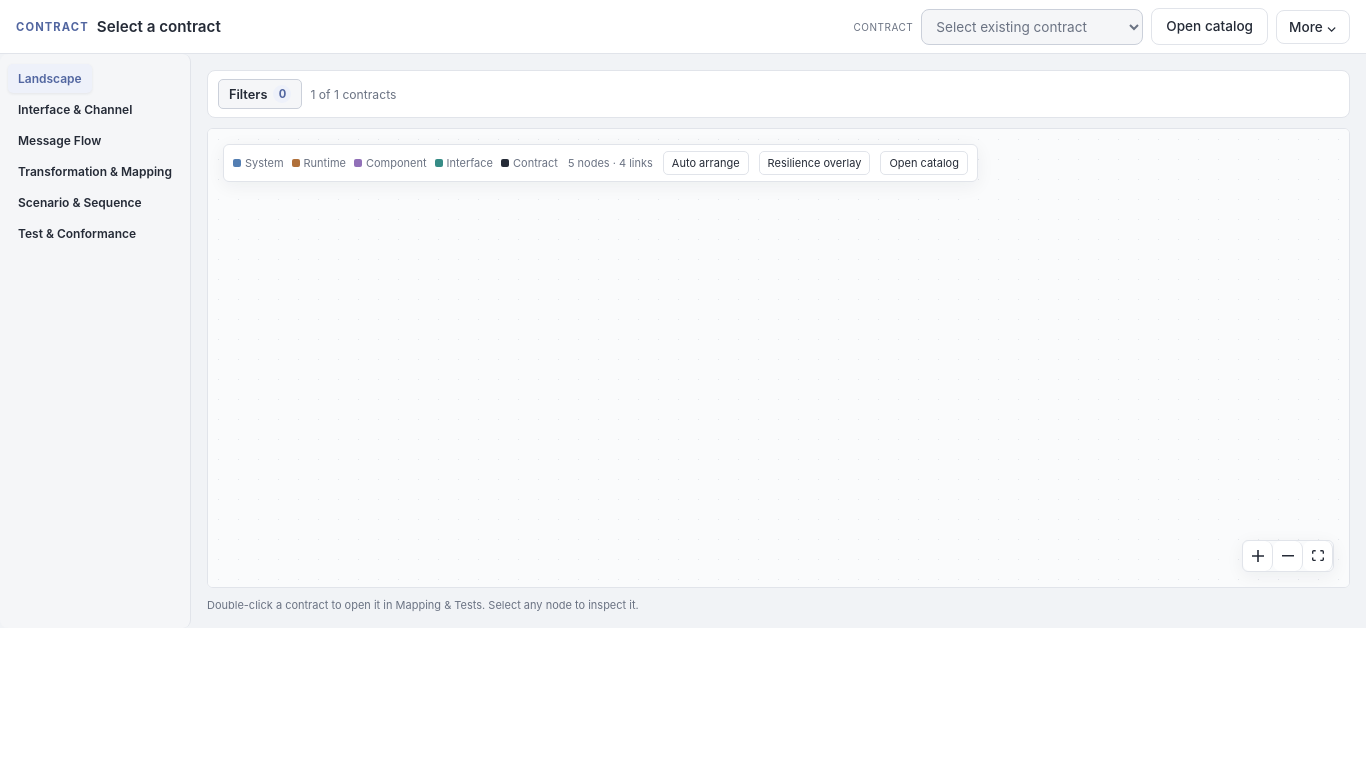
IntegrationWorkbench › shows the message flow stages including metadata-only routing
The width and height of the screenshot is (1366, 768).
Select "Customer push · CRM→ERP" in the dropdown labelled "Contract" at (1032, 26), box [921,8,1143,44]
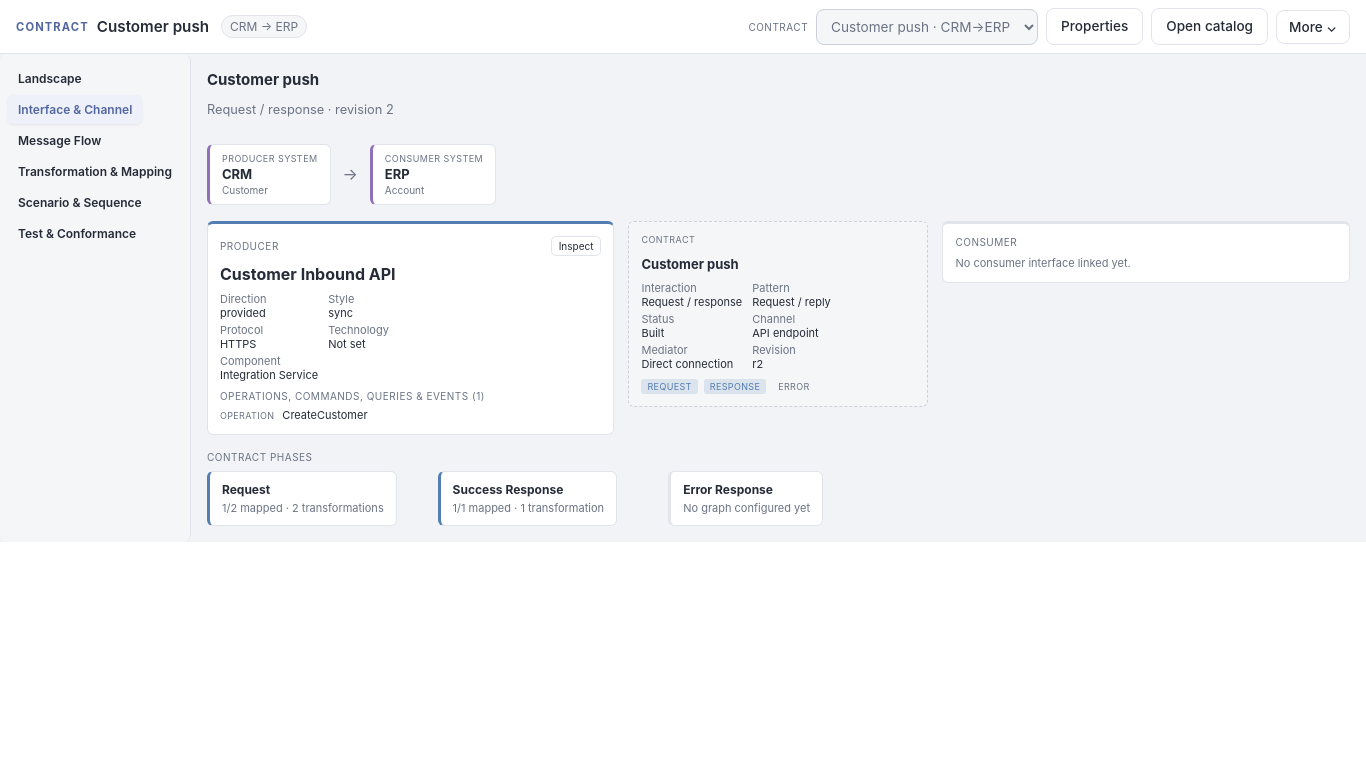
Check: the text "CreateCustomer" is shown, box [282,408,368,422]
Click the button "Message Flow" at (60, 140), box [8,126,111,155]
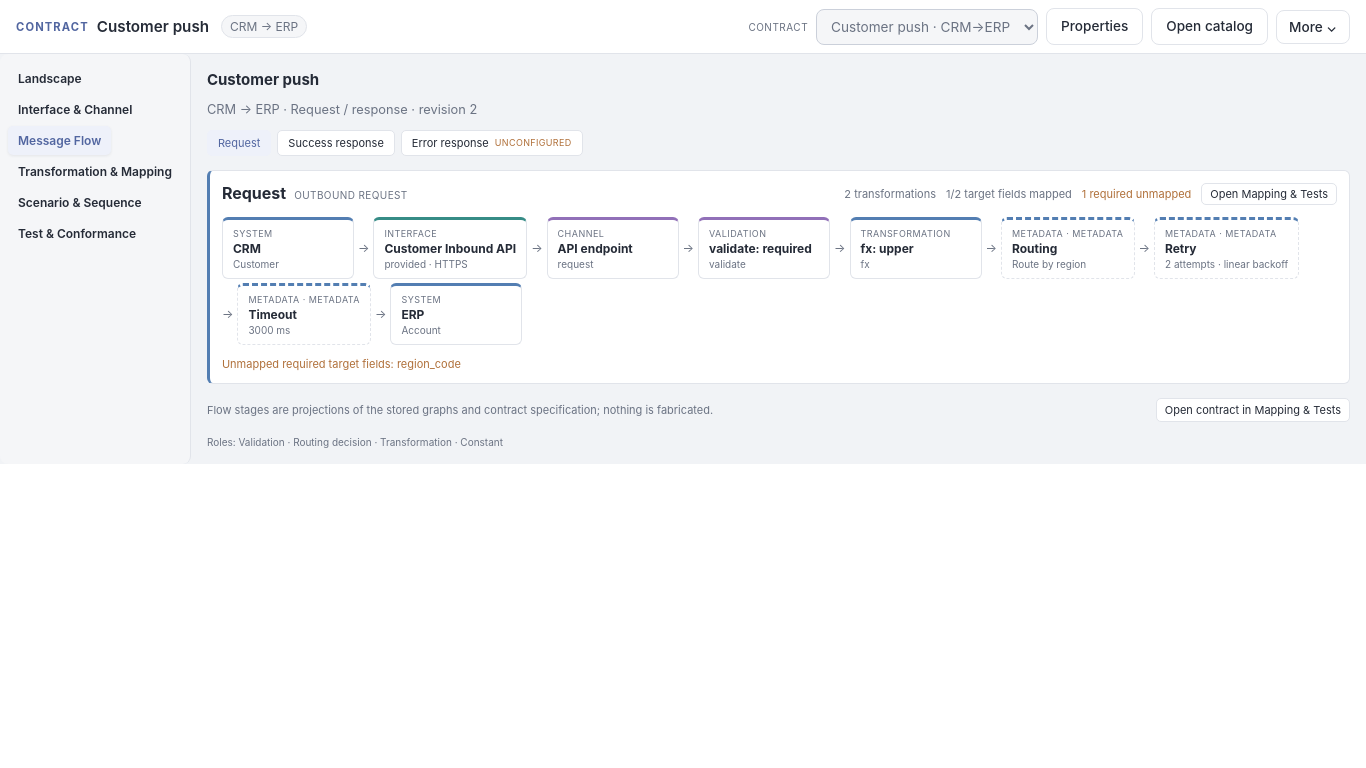
Check: the text "validate: required" is shown, box [709,241,819,256]
Check: the text "fx: upper" is shown, box [860,241,914,256]
Check: the text "Route by region" is shown, box [1012,258,1086,270]
